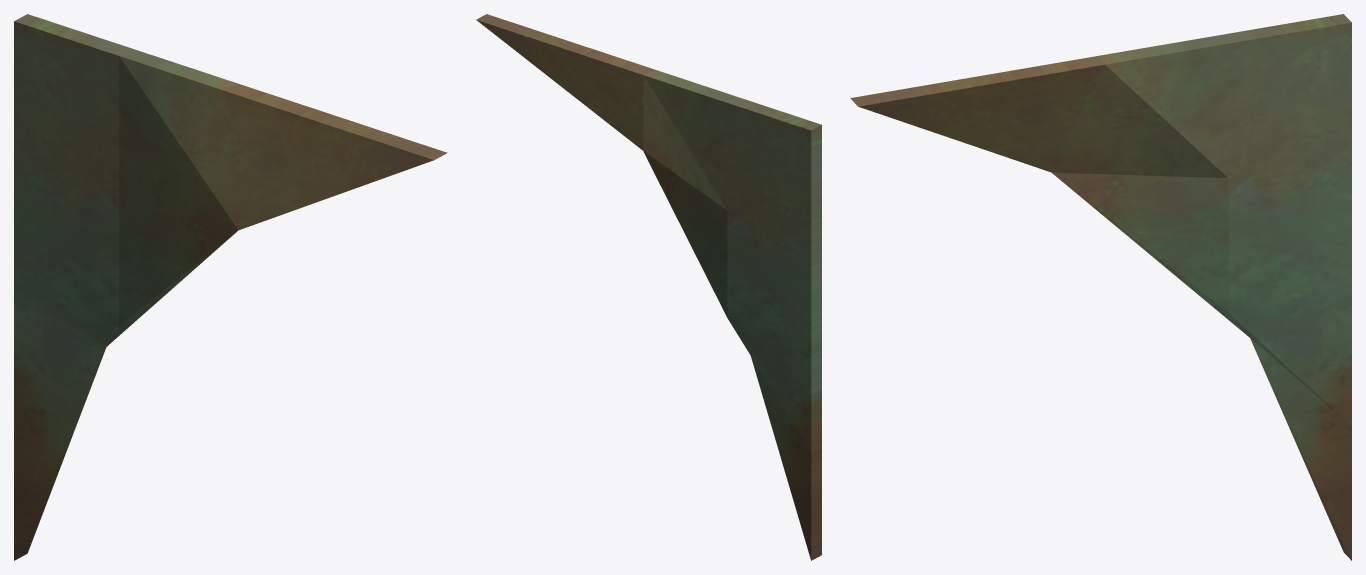
Rendered from GH_1_EmbCR_4.gltf.
3 views of the same model, side by side, from view 1: azimuth 30°, elevation 25°; view 2: azimuth 210°, elevation 25°; view 3: azimuth 270°, elevation 25° (orthographic). The views are drawn at different scales.
Visible parts, largest first — view 1: GH_1_EmbCR_4; view 2: GH_1_EmbCR_4; view 3: GH_1_EmbCR_4.
Boxes of the visible parts, left/top/right/bottom form: GH_1_EmbCR_4: left=14, top=14, right=447, bottom=560; GH_1_EmbCR_4: left=476, top=14, right=821, bottom=560; GH_1_EmbCR_4: left=850, top=14, right=1351, bottom=560.
Bounding box in the file's own units: 0.5174 × 1.4 × 1.18.
1 material, 1 textured.
